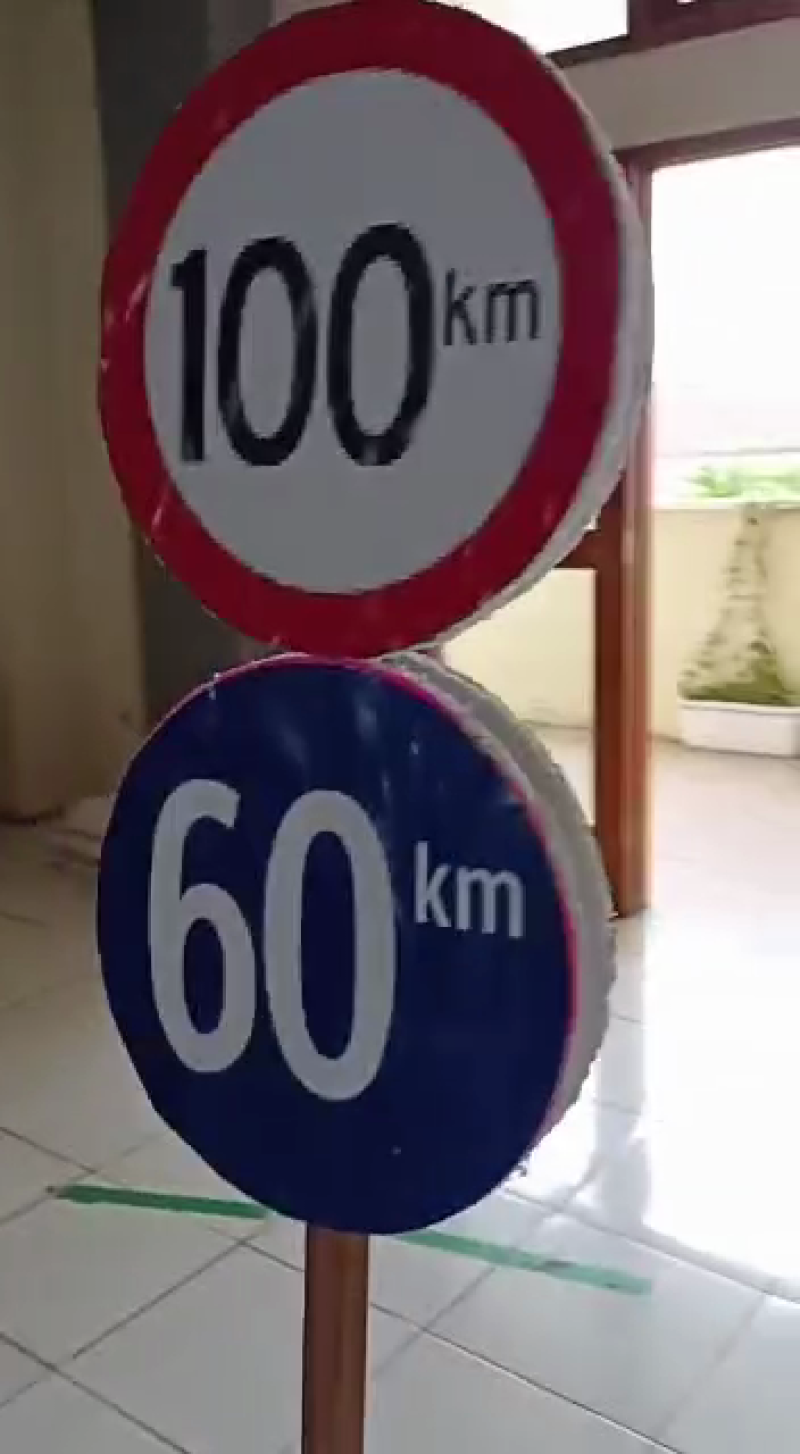batas maksimal 100kmperjam minimal 60kmperjam: (78, 1, 646, 1238)
